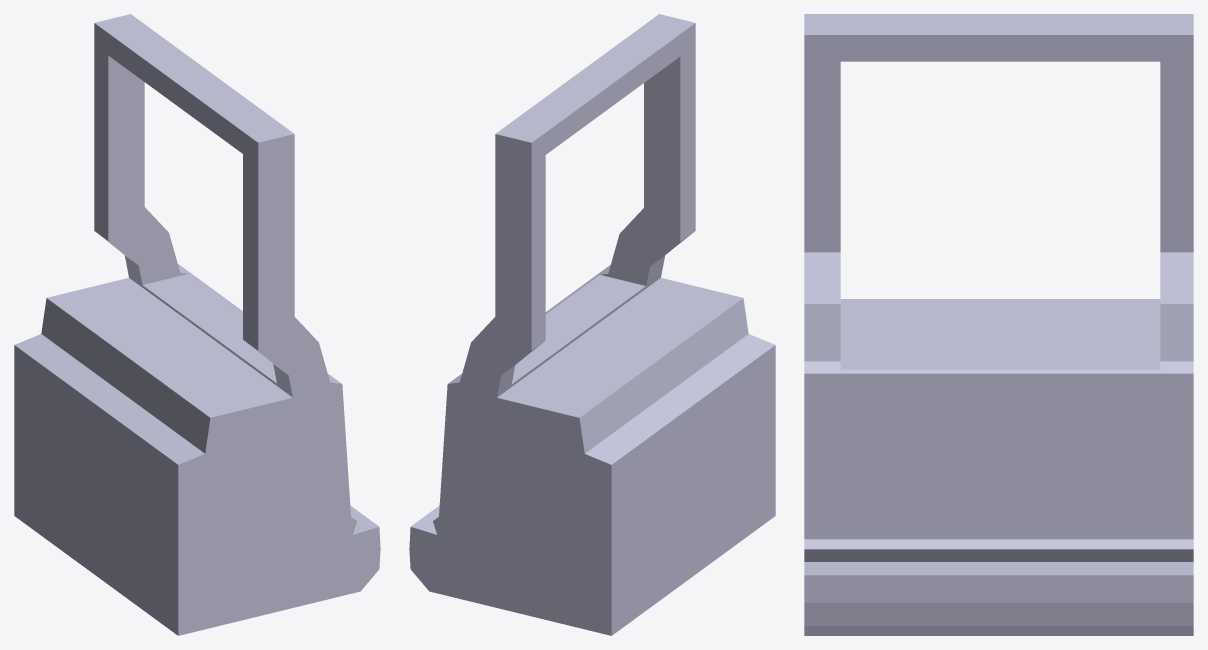
Rendered from first_robot_Forklift_Chassis.dae.
The picture shows the model from 3 angles, left to right: view 1: azimuth 30°, elevation 25°; view 2: azimuth 150°, elevation 25°; view 3: azimuth 270°, elevation 25°; orthographic projection. The views are drawn at different scales.
Parts seen in each view (by area): view 1: node0; view 2: node0; view 3: node0.
Boxes of the visible parts, bbox=[...] form: node0: bbox=[14, 14, 380, 635]; node0: bbox=[409, 14, 775, 635]; node0: bbox=[804, 14, 1193, 635].
Size of the model in its own units: 1.07 by 1.5 by 2.39.
